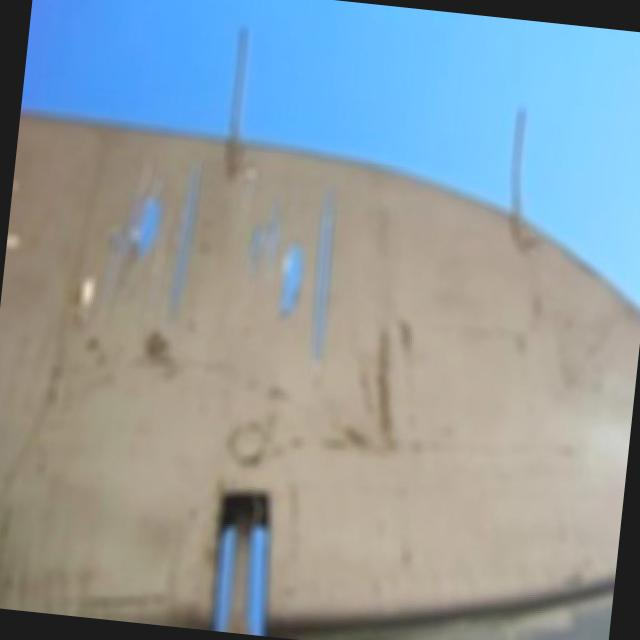crack: (94, 154, 346, 366)
